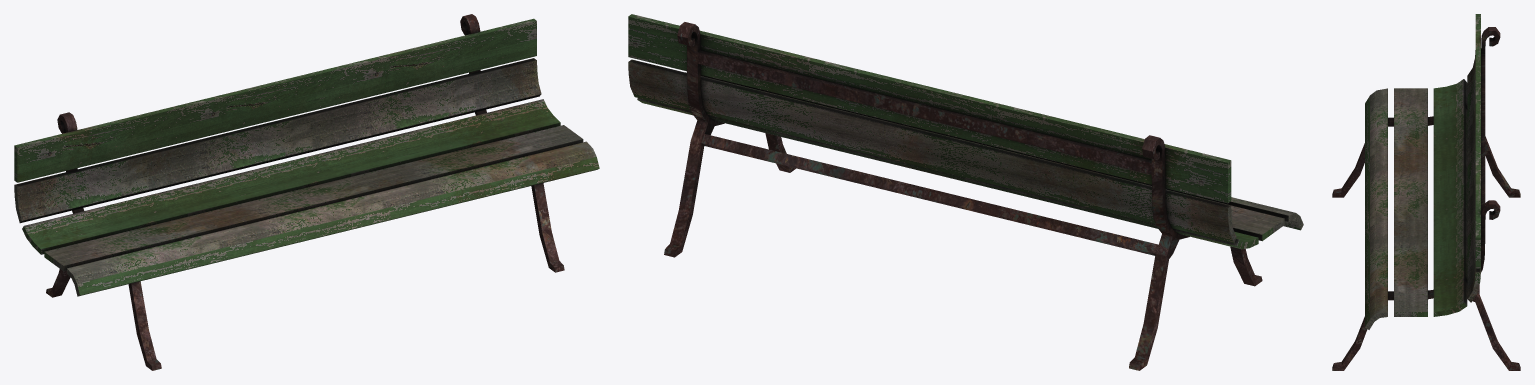
Rendered from bank_1.fbx.
3 renders of one model, left to right at view 1: azimuth 30°, elevation 25°; view 2: azimuth 150°, elevation 25°; view 3: azimuth 270°, elevation 25°, orthographic. The views are drawn at different scales.
Parts seen in each view (by area): view 1: bank_1; view 2: bank_1; view 3: bank_1.
Part boxes in pixels (<box>): bank_1: <box>14,14,599,370</box>; bank_1: <box>628,14,1303,370</box>; bank_1: <box>1332,14,1520,370</box>.
Size of the model in its own units: 286 by 99.28 by 101.
